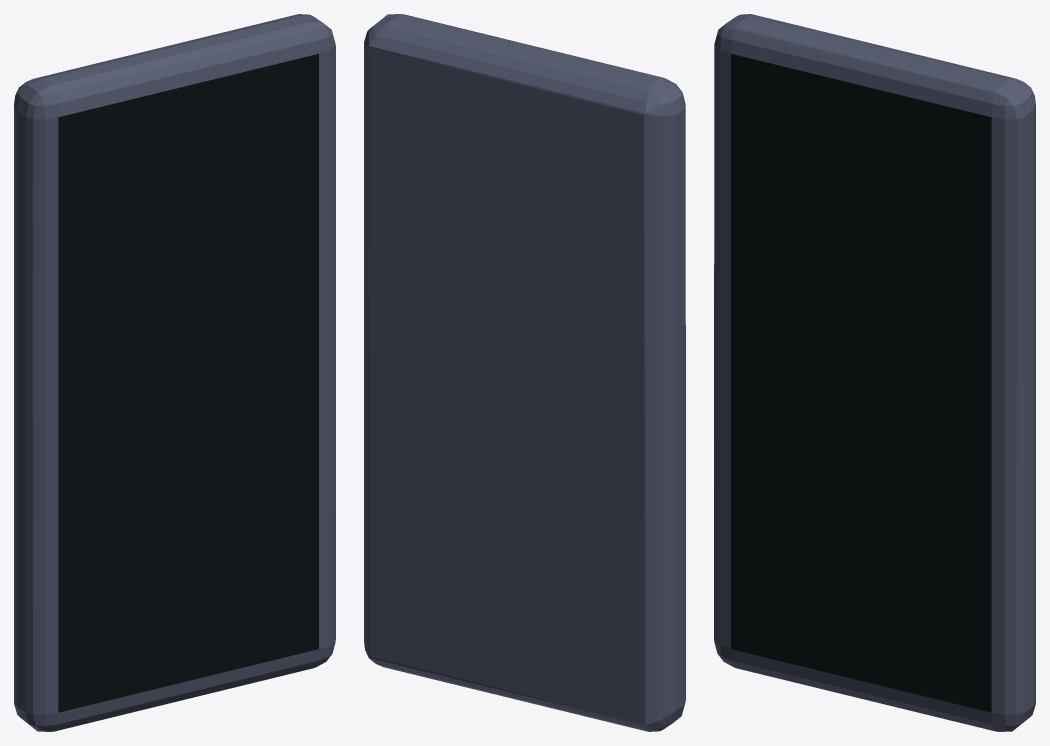
Rendered from SM_TD2_Display_Portrait.gltf.
3 views of the same model, side by side, from view 1: azimuth 30°, elevation 25°; view 2: azimuth 150°, elevation 25°; view 3: azimuth 330°, elevation 25° (orthographic).
Parts seen in each view (by area): view 1: SM_TD2_Display_Portrait_LookDev02__Screen, SM_TD2_Display_Portrait_LookDev02__Body; view 2: SM_TD2_Display_Portrait_LookDev02__Body; view 3: SM_TD2_Display_Portrait_LookDev02__Screen, SM_TD2_Display_Portrait_LookDev02__Body.
Boxes of the visible parts, <box> form: SM_TD2_Display_Portrait_LookDev02__Screen: <box>58,54,318,712</box>; SM_TD2_Display_Portrait_LookDev02__Body: <box>14,14,335,731</box>; SM_TD2_Display_Portrait_LookDev02__Body: <box>364,14,685,731</box>; SM_TD2_Display_Portrait_LookDev02__Screen: <box>731,54,991,712</box>; SM_TD2_Display_Portrait_LookDev02__Body: <box>714,14,1035,731</box>.
Size of the model in its own units: 2 by 4 by 0.3567.
2 materials, 1 textured.
